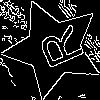R: (28, 23, 86, 75)
